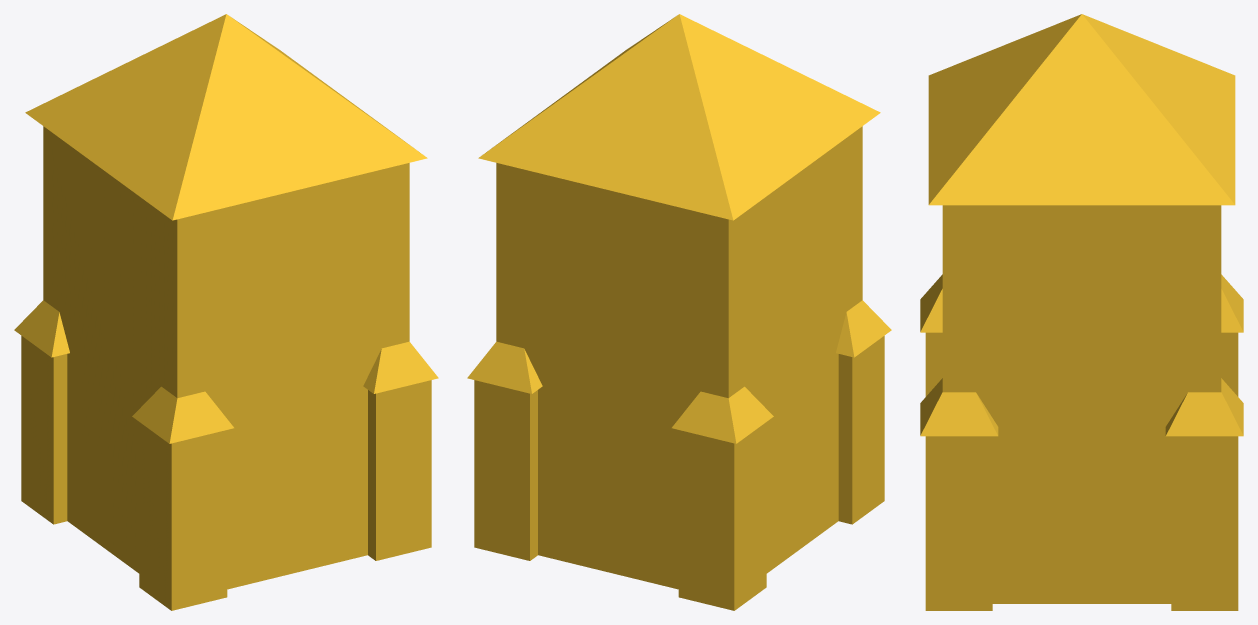
Rendered from castle.obj.
3 renders of one model, left to right at view 1: azimuth 30°, elevation 25°; view 2: azimuth 150°, elevation 25°; view 3: azimuth 270°, elevation 25°, orthographic. The views are drawn at different scales.
Size of the model in its own units: 0.58 by 1.05 by 0.58.
